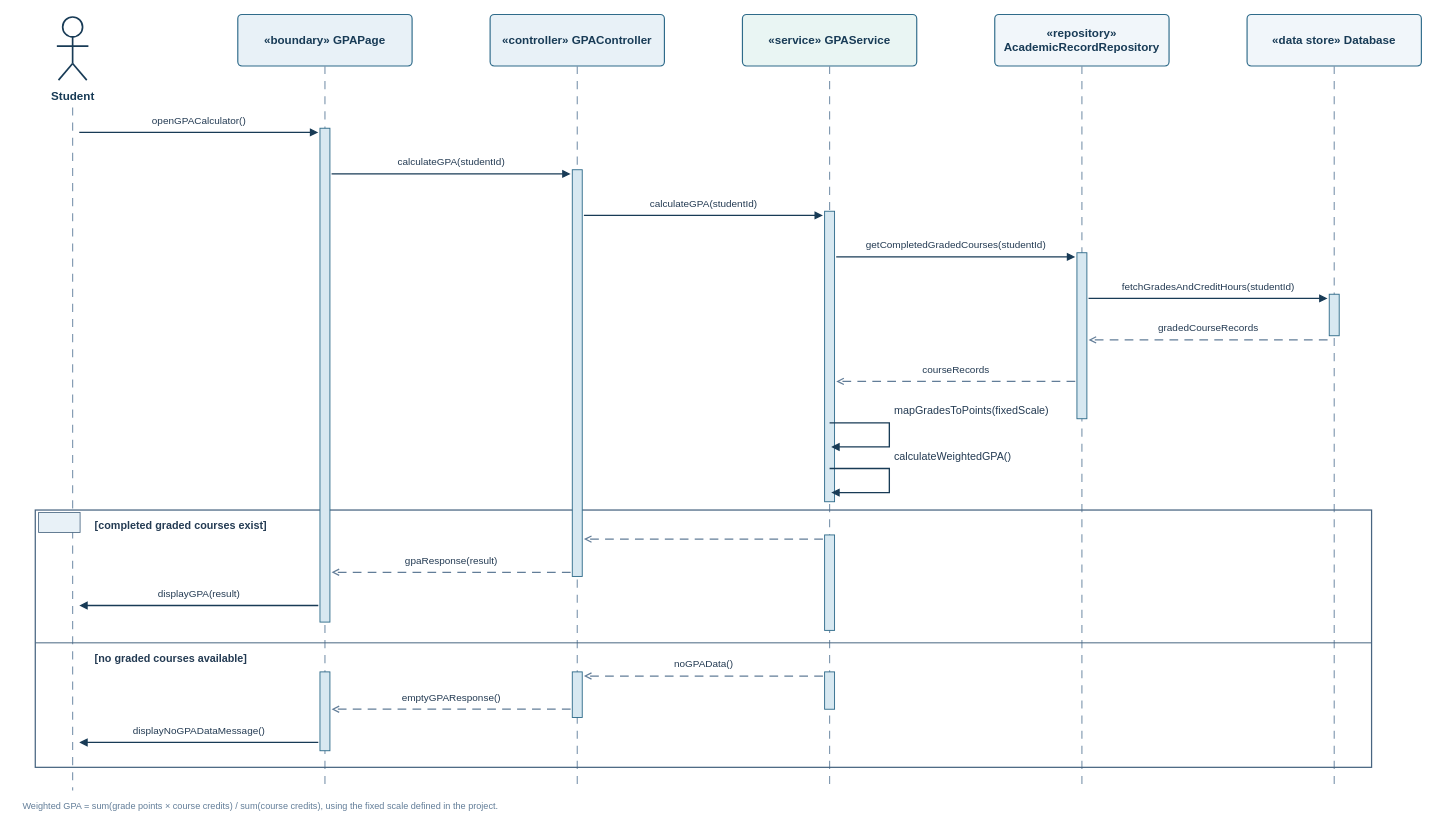
Image size: 1436x831. Some labels were removed from this diagram. Here are the shapes that lost their labels. From the top down, the box of each, then its label:
(38, 512, 80, 532): alt
(613, 520, 793, 535): gpaResult(value, totalCredits)
